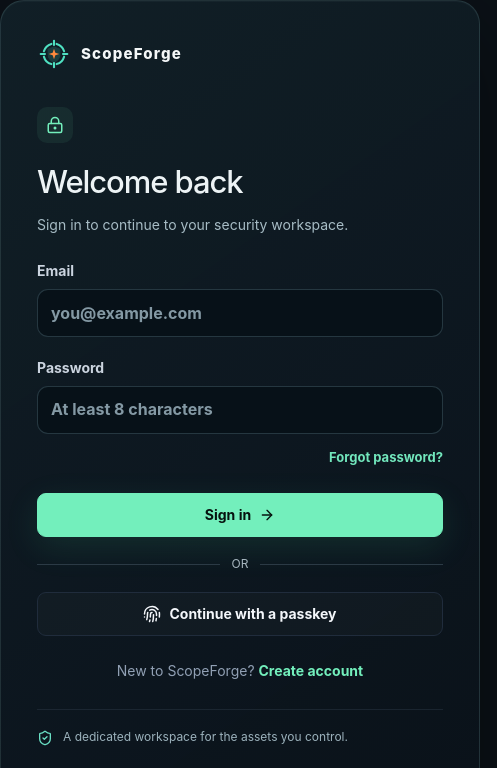
Test: AuthForm › renders a bounded sign-in error instead of raw provider detail
Type "alice@example.com" into the field labelled "Email" at (240,313), box [37,289,443,337]
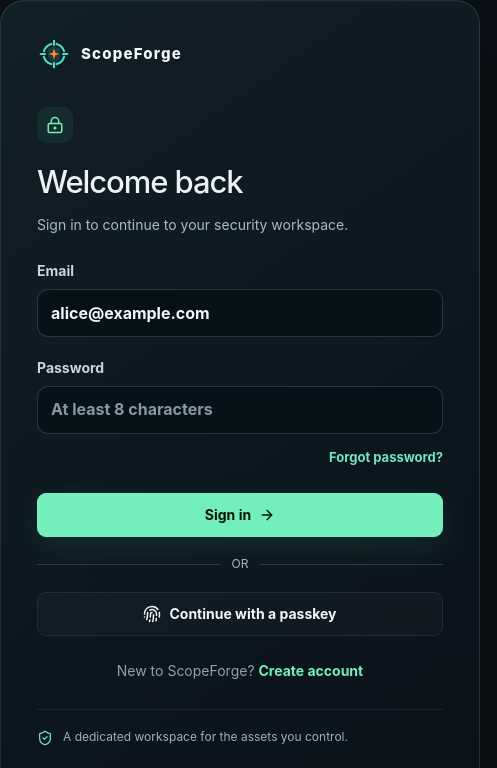
Type "password123" into the password field labelled "Password" at (240,410), box [37,386,443,434]
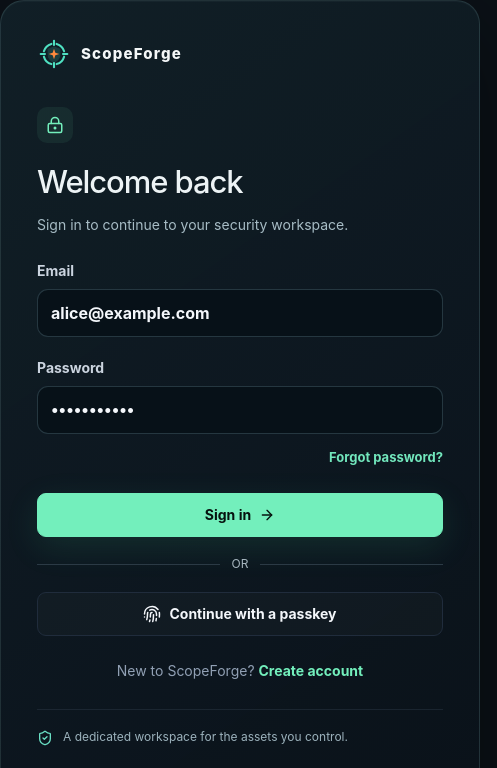
Click the button "Sign in" at (240,515), box [37,493,443,537]
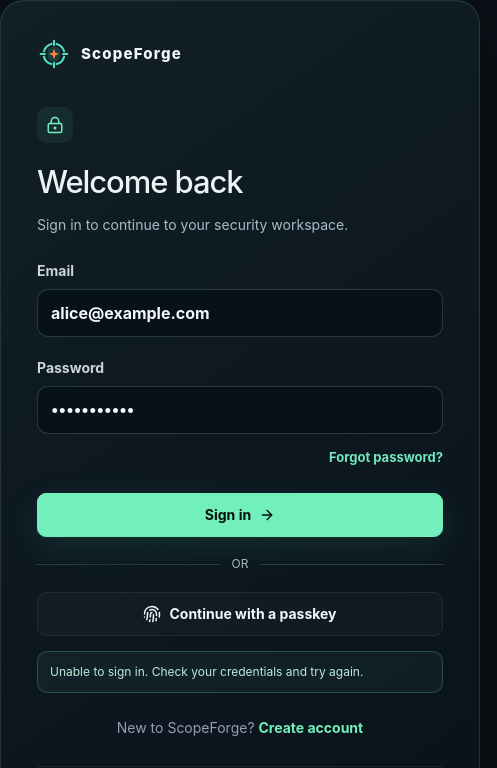
Expected: the message reads "Unable to sign in. Check your credentials and try again.", [50,664,363,678]
